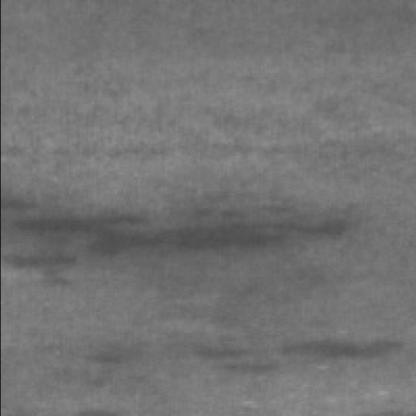inclusion: (4, 202, 358, 283), (276, 326, 410, 374), (187, 339, 285, 385)
